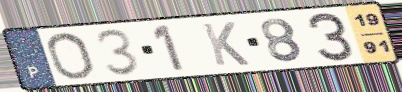1: (150, 23, 189, 73)
3: (304, 10, 354, 63), (95, 28, 141, 77)
8: (259, 17, 304, 63)
K: (199, 20, 253, 67)
O: (43, 30, 97, 81)
